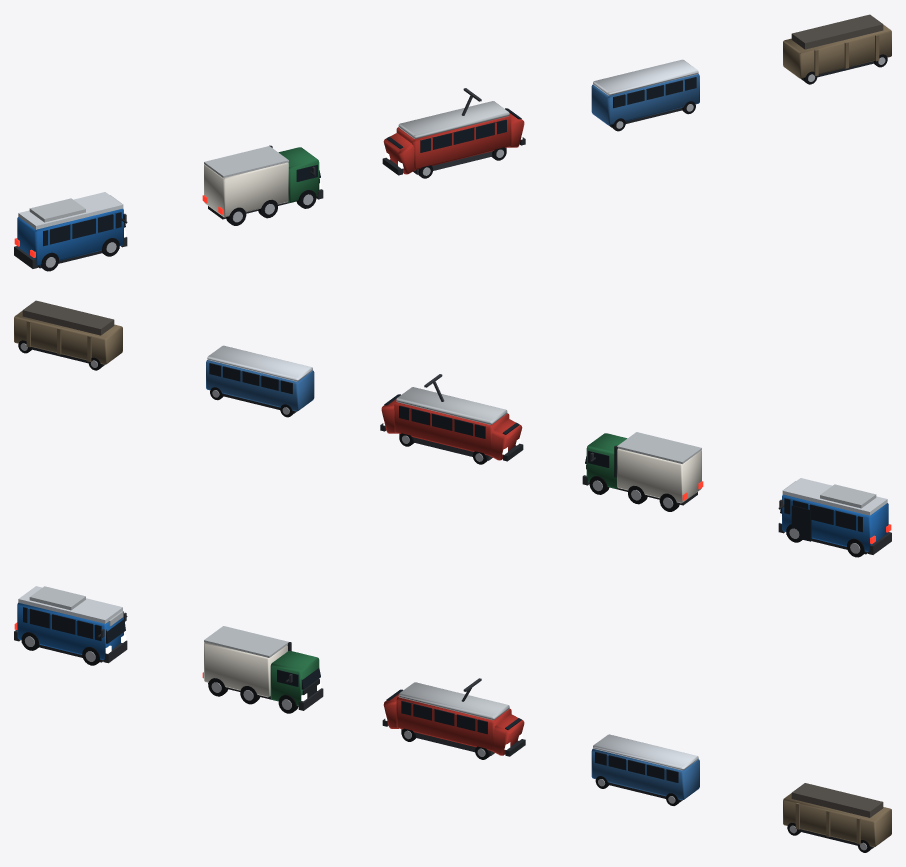
The model's file is vehicles.glb.
3 views of the same model, one above another, from view 1: azimuth 30°, elevation 25°; view 2: azimuth 150°, elevation 25°; view 3: azimuth 330°, elevation 25° (orthographic).
Parts seen in each view (by area): view 1: veh_train, veh_truck, veh_bus, wagon_pax, wagon_freight; view 2: veh_train, veh_truck, veh_bus, wagon_pax, wagon_freight; view 3: veh_truck, veh_train, veh_bus, wagon_pax, wagon_freight.
Boxes of the visible parts, left/top/right/bottom form: veh_train: left=382, top=88, right=525, bottom=178; veh_truck: left=202, top=145, right=323, bottom=225; veh_bus: left=14, top=192, right=127, bottom=271; wagon_pax: left=591, top=59, right=699, bottom=131; wagon_freight: left=783, top=14, right=891, bottom=84; veh_train: left=380, top=374, right=523, bottom=464; veh_truck: left=582, top=432, right=703, bottom=511; veh_bus: left=778, top=478, right=891, bottom=557; wagon_pax: left=206, top=345, right=314, bottom=417; wagon_freight: left=14, top=300, right=122, bottom=370; veh_truck: left=202, top=626, right=323, bottom=713; veh_train: left=382, top=678, right=525, bottom=759; veh_bus: left=14, top=586, right=127, bottom=665; wagon_pax: left=591, top=734, right=699, bottom=805; wagon_freight: left=783, top=783, right=891, bottom=852.
Size of the model in its own units: 26.93 by 1.92 by 1.58.
